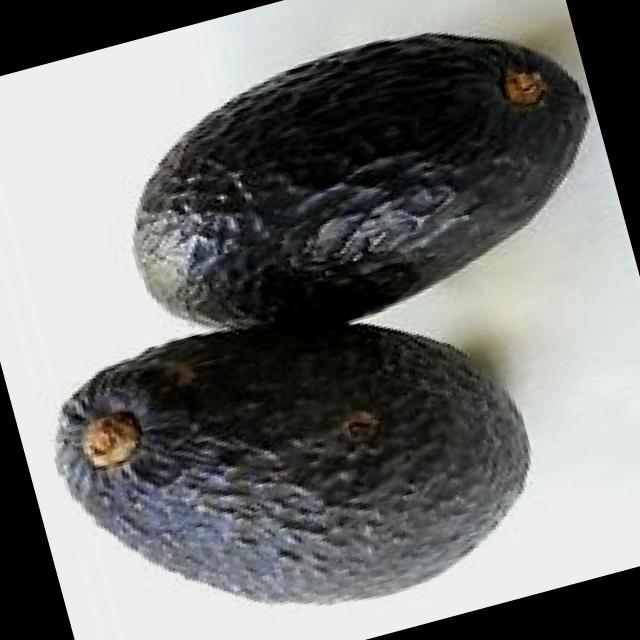avocado: (27, 255, 567, 640), (88, 0, 627, 370)
